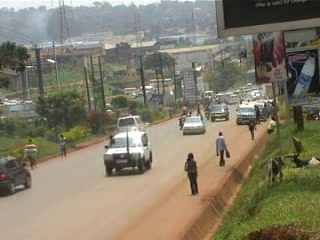Car: (101, 128, 153, 178), (0, 153, 33, 199), (181, 112, 208, 136), (209, 102, 230, 123)
Motorcycle: (177, 107, 191, 130), (201, 102, 211, 121)
